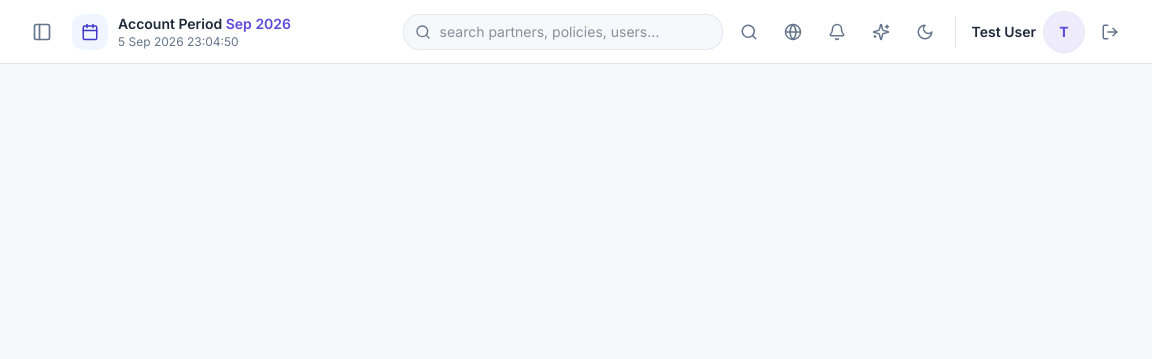
Topbar bell notification center integration › surfaces CommitmentOverdue notifications with a deep link that navigates
Later steps or results of the test are not shown.
What coordinates should you click on to do the following:
click the button named "notifications"
I would click on:
 (837, 32)
Its box is top-left (819, 14), bottom-right (855, 50).
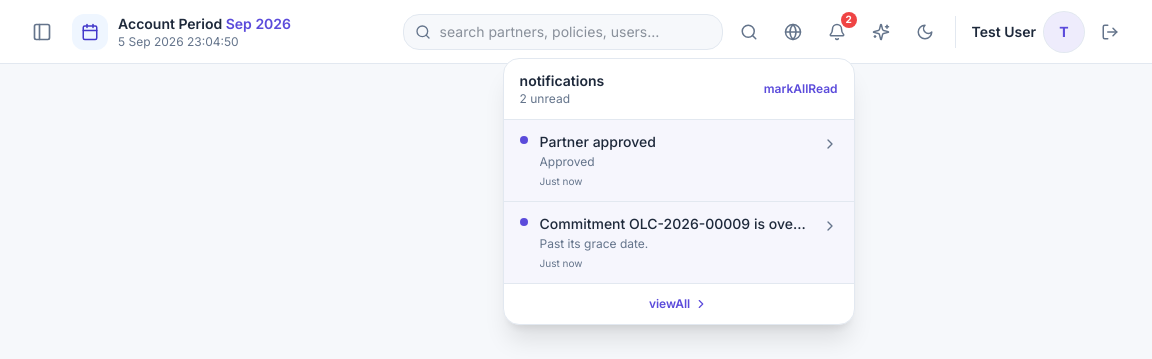
Expected: the text "Commitment OLC-2026-00009 is overdue" is shown, top-left (540, 214), bottom-right (810, 234)
